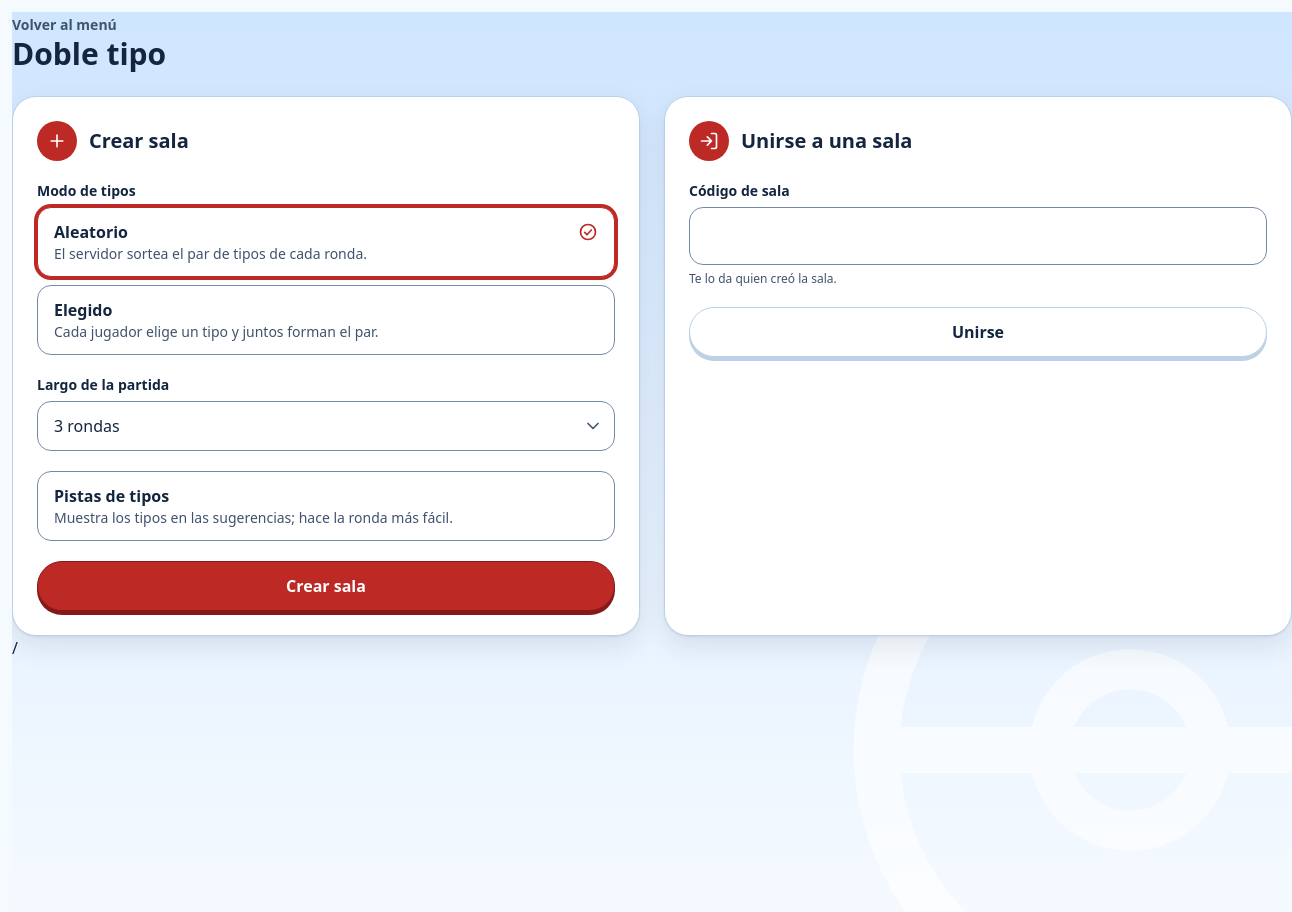
Test case: lobby: unirse a una sala › si el servidor responde ROOM_FULL lo explica en español
Step 1. Type "ZZZZZZ" into the field labelled "Código de sala" → {"x": 978, "y": 236}, box [689,207,1267,265]
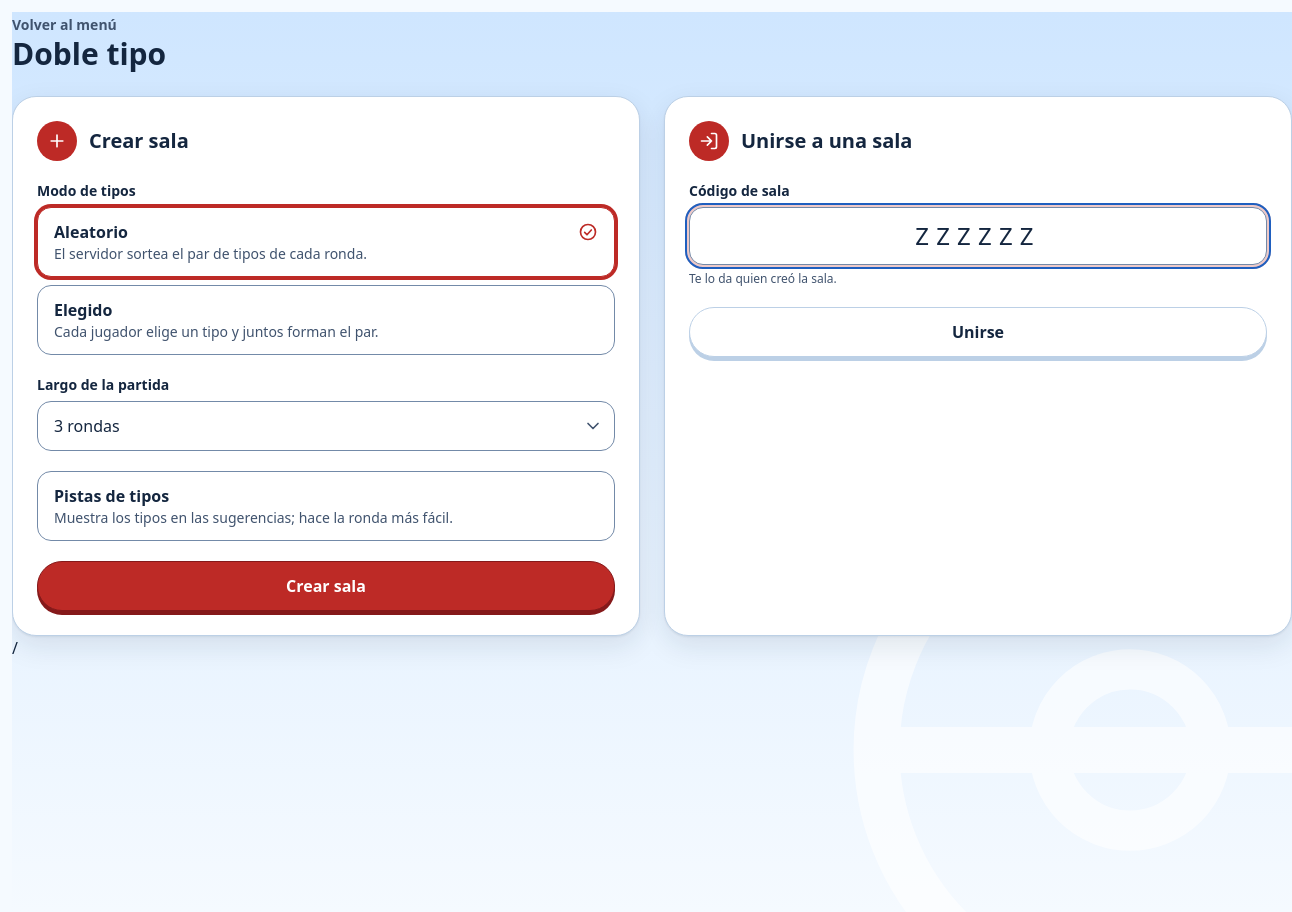
Step 2. Click the button "Unirse" → {"x": 978, "y": 332}, box [689,307,1267,357]
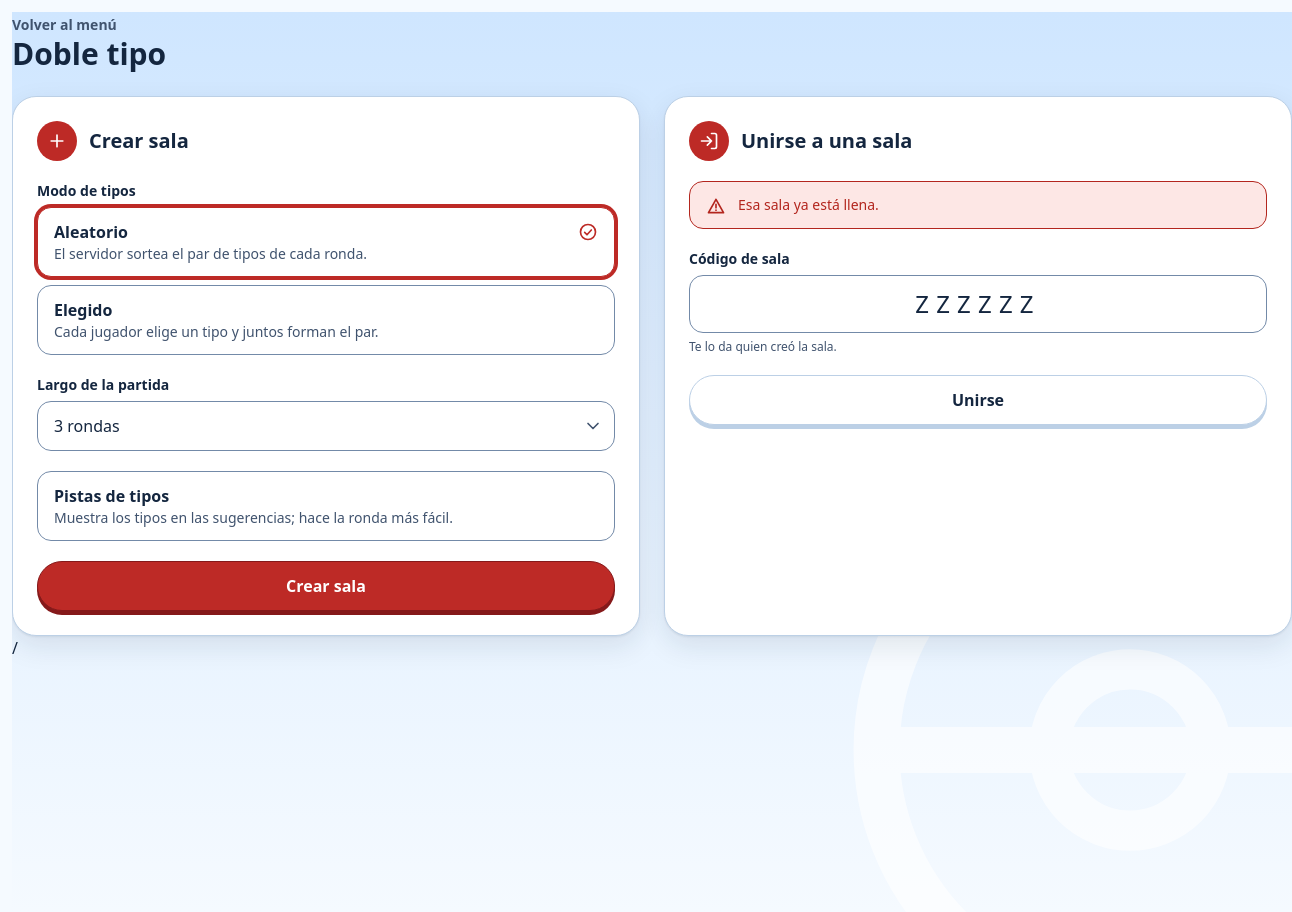
Expected: the text with test id "location" reads "/", [12,637,18,659]
Expected: the message reads "Esa sala ya está llena.", [738,195,879,214]
